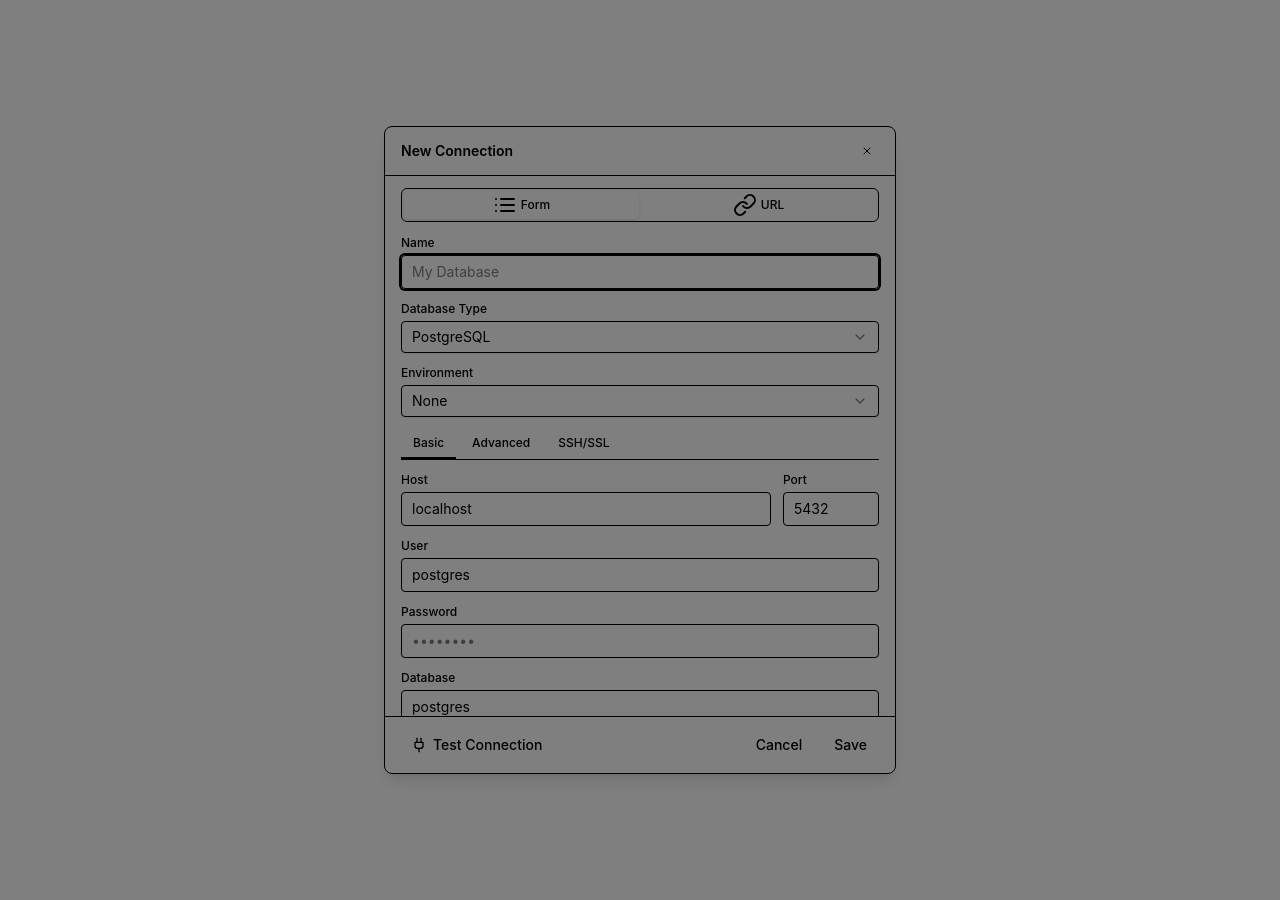
Test case: ConnectionDialog Test Connection (#2437) › [conn-test] a collapsed failure still announces itself to screen readers
The width and height of the screenshot is (1280, 900).
In the field labelled "Name": [640, 272] box [401,255,879,289], type "Reporting replica"
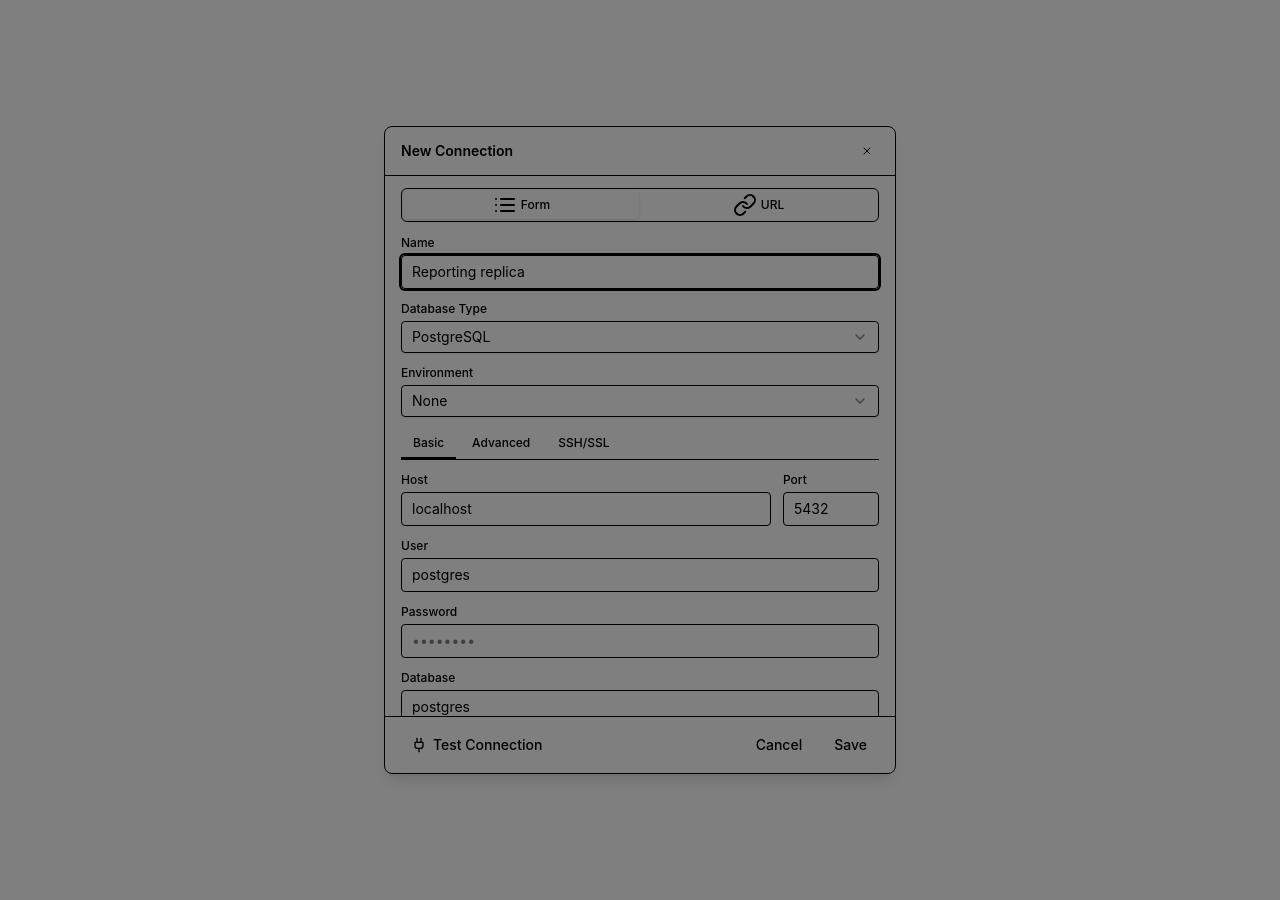
Click the button "Test Connection": [477, 745] box [401,729,552,761]
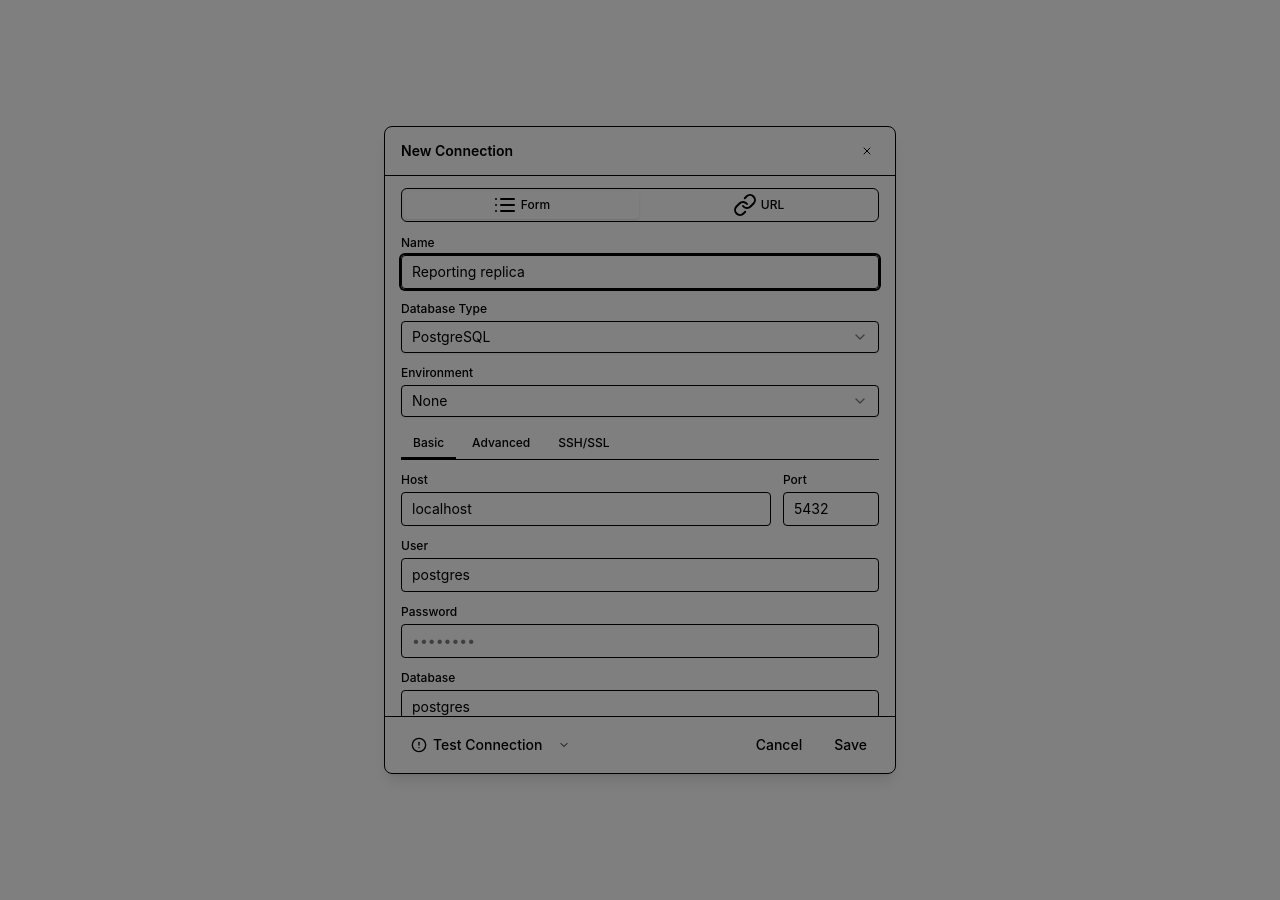
Expected: the button named "Test result details" is shown, [552,733,576,757]
